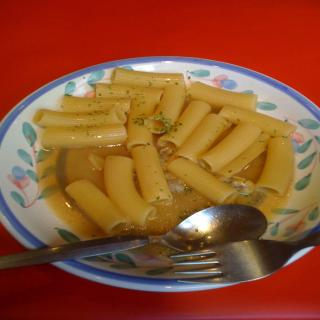Pasta: (34, 58, 305, 248)
